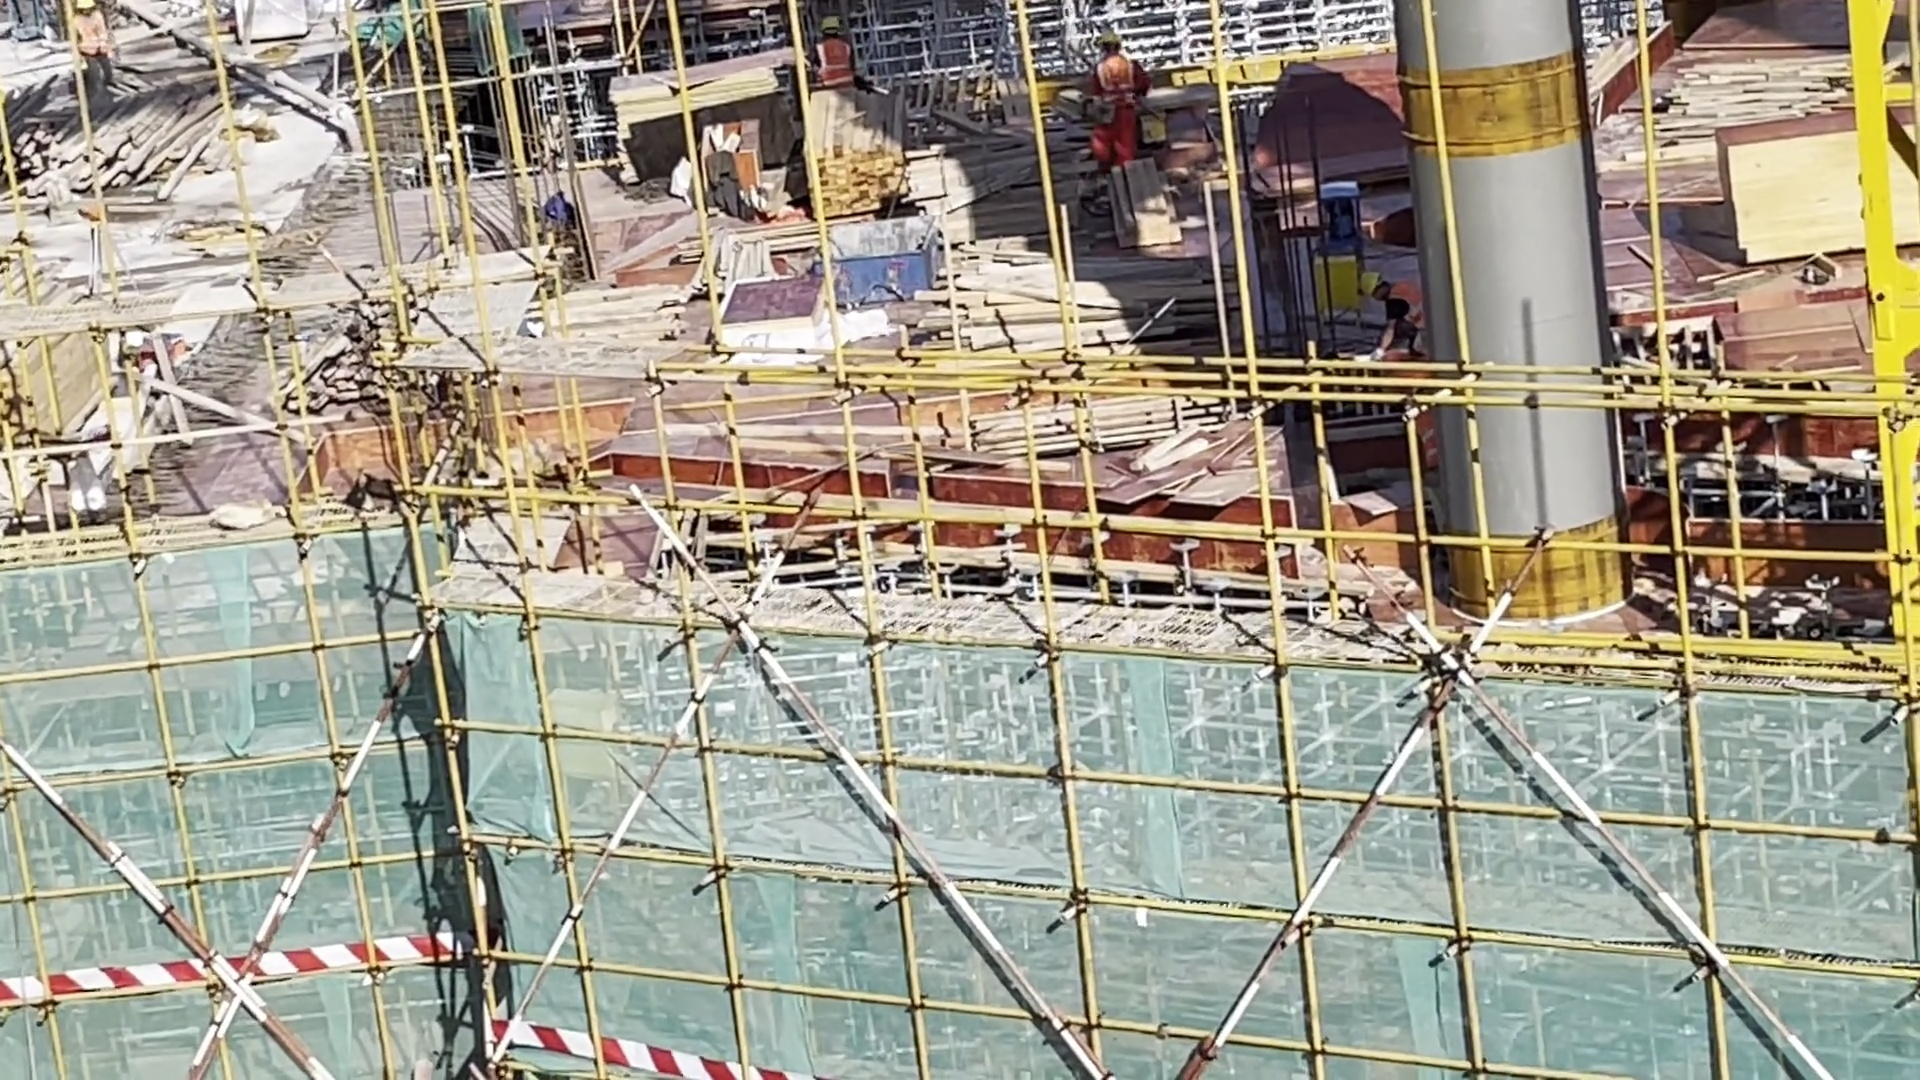board: (1119, 398, 1288, 541)
helmet: (1352, 267, 1379, 295), (1092, 30, 1113, 51), (816, 13, 838, 33)
hopper: (808, 209, 948, 304)
person: (1079, 22, 1145, 170), (1360, 276, 1455, 360), (801, 3, 867, 111)
vest: (1092, 58, 1142, 151), (812, 39, 852, 92)
wood: (900, 246, 1237, 352), (22, 72, 201, 201), (1651, 41, 1814, 134)
